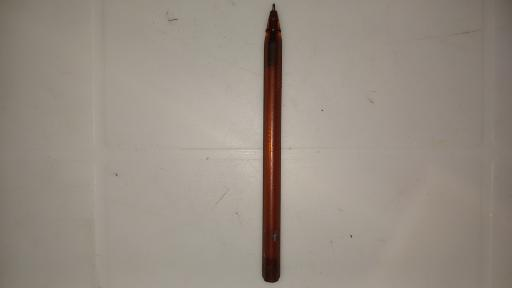pen: (261, 0, 283, 284)
